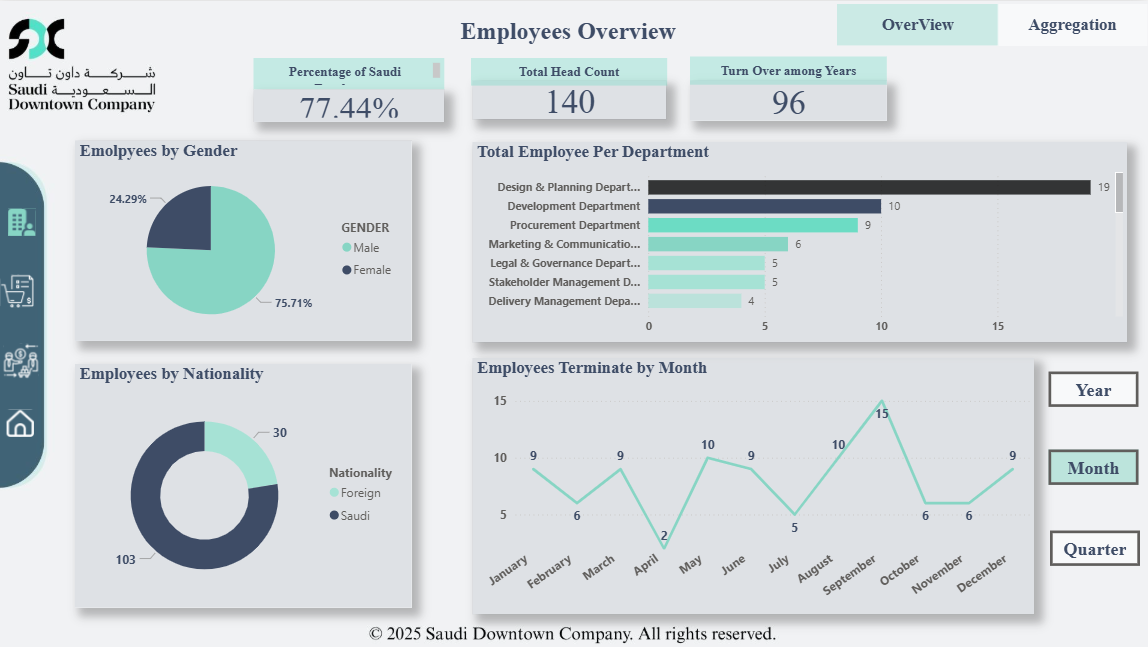

The dashboard page shown, as its layout file describes it:
{"tool":"powerbi","page":{"name":"HR Page","canvas":[1280,720],"ordinal":1},"visuals":[{"type":"pieChart","title":"Emolpyees by Gender","fields":{"Category":["Gender.GENDER"],"Y":["CountNonNull(HeadCount.Department)"]},"box":[86.2,155.2,374.1,222.4],"z":0},{"type":"actionButton","box":[8.1,227,45,38.3],"z":0,"group":"g1"},{"type":"actionButton","box":[1168.9,411.5,100,39.3],"z":0,"group":"g2"},{"type":"actionButton","box":[0,300.3,68.3,45],"z":1000,"group":"g1"},{"type":"actionButton","box":[1168.9,498.4,100,39.3],"z":1000,"group":"g2"},{"type":"actionButton","box":[3.9,377,53.3,46.7],"z":2000,"group":"g1"},{"type":"actionButton","box":[1170.5,588.5,100,39.3],"z":2000,"group":"g2"},{"type":"group","id":"g1","title":"Group 1","box":[0,227,68.3,196.7],"z":3000},{"type":"actionButton","box":[6.7,450,48.3,38.3],"z":4000},{"type":"card","title":"Total HeadCount","fields":{"Values":["Count(HeadCount.Employee_Number)"]},"box":[527.6,87.9,215.5,43.1],"z":5000},{"type":"barChart","title":"Total Employee Per Department","fields":{"Y":["Count(EmployeeStatus.Employee_Number)"],"Category":["EmployeeStatus.Department"]},"box":[527.6,156.9,727.6,222.4],"z":6000},{"type":"donutChart","title":"Employees by Nationality","fields":{"Category":["Nationality.ClassificationNation"],"Y":["CountNonNull(Nationality.EMPLOYEE_NUMBER)"]},"box":[86.2,403.4,374.1,270.7],"z":7000},{"type":"textbox","box":[460.3,12.1,355.8,46.9],"z":9000},{"type":"lineChart","title":"Employees Terminate by Month","fields":{"Y":["Count(EmployeeStatus.Employee_Number)"],"Category":["EmployeeStatus.Termination Date.Variation.Date Hierarchy.Month"]},"box":[527.6,396.6,624.1,284.5],"z":10000},{"type":"group","id":"g2","title":"Month","box":[1168.9,411.5,101.6,216.4],"z":11000},{"type":"actionButton","box":[932.8,3.5,179.6,46.3],"z":18000},{"type":"actionButton","box":[1112.2,2.7,166.8,46.8],"z":19000},{"type":"card","fields":{"Values":["EmployeeStatus.#ForeignEmployeesPercentage"]},"box":[284.5,98.3,212.1,36.2],"z":20000},{"type":"textbox","box":[284.5,63.8,212.1,34.5],"z":22000},{"type":"textbox","box":[526.7,63.1,217.9,30.6],"z":23000},{"type":"card","title":"TurnOver Employee Over Years ","fields":{"Values":["CountNonNull(EmployeeStatus.Department)"]},"box":[770.7,88.6,219,44.8],"z":24000},{"type":"textbox","box":[770.7,61,219,31],"z":25000}]}

Visuals, with their boxes on the page's 1280x720 design canvas (x1, y1, x2, y2). These are canvas units, not pixel positions in the 1148x647 screenshot, which may show the page scaled, cropped or inside an application window:
"Emolpyees by Gender" pieChart: <bbox>86, 155, 460, 378</bbox>
actionButton: <bbox>8, 227, 53, 265</bbox>
actionButton: <bbox>1169, 412, 1269, 451</bbox>
actionButton: <bbox>0, 300, 68, 345</bbox>
actionButton: <bbox>1169, 498, 1269, 538</bbox>
actionButton: <bbox>4, 377, 57, 424</bbox>
actionButton: <bbox>1170, 588, 1270, 628</bbox>
"Group 1" group: <bbox>0, 227, 68, 424</bbox>
actionButton: <bbox>7, 450, 55, 488</bbox>
"Total HeadCount" card: <bbox>528, 88, 743, 131</bbox>
"Total Employee Per Department" barChart: <bbox>528, 157, 1255, 379</bbox>
"Employees by Nationality" donutChart: <bbox>86, 403, 460, 674</bbox>
textbox: <bbox>460, 12, 816, 59</bbox>
"Employees Terminate by Month" lineChart: <bbox>528, 397, 1152, 681</bbox>
"Month" group: <bbox>1169, 412, 1270, 628</bbox>
actionButton: <bbox>933, 4, 1112, 50</bbox>
actionButton: <bbox>1112, 3, 1279, 50</bbox>
card - EmployeeStatus.#ForeignEmployeesPercentage: <bbox>284, 98, 497, 134</bbox>
textbox: <bbox>284, 64, 497, 98</bbox>
textbox: <bbox>527, 63, 745, 94</bbox>
"TurnOver Employee Over Years " card: <bbox>771, 89, 990, 133</bbox>
textbox: <bbox>771, 61, 990, 92</bbox>
